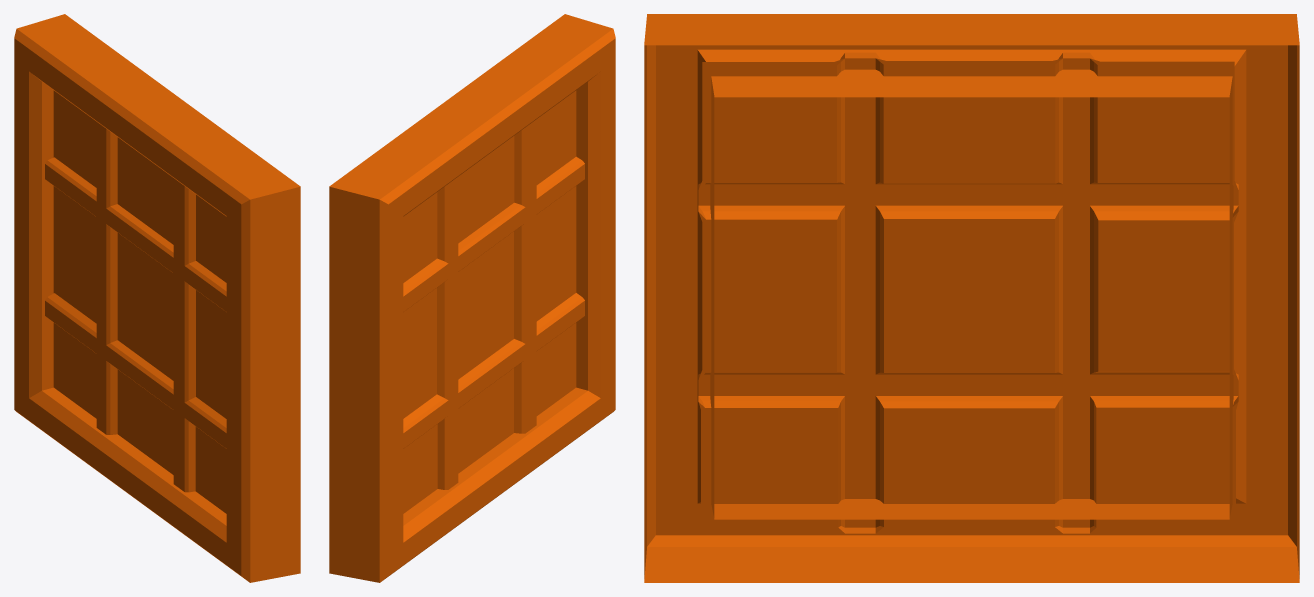
The model's file is Window.fbx.
3 views of the same model, side by side, from view 1: azimuth 30°, elevation 25°; view 2: azimuth 150°, elevation 25°; view 3: azimuth 270°, elevation 25° (orthographic). The views are drawn at different scales.
Visible parts, largest first — view 1: Window; view 2: Window; view 3: Window.
Part boxes in pixels (<box>): Window: <box>14,14,300,582</box>; Window: <box>329,14,615,582</box>; Window: <box>644,14,1299,582</box>.
Size of the model in its own units: 0.6425 by 4.31 by 4.76.
